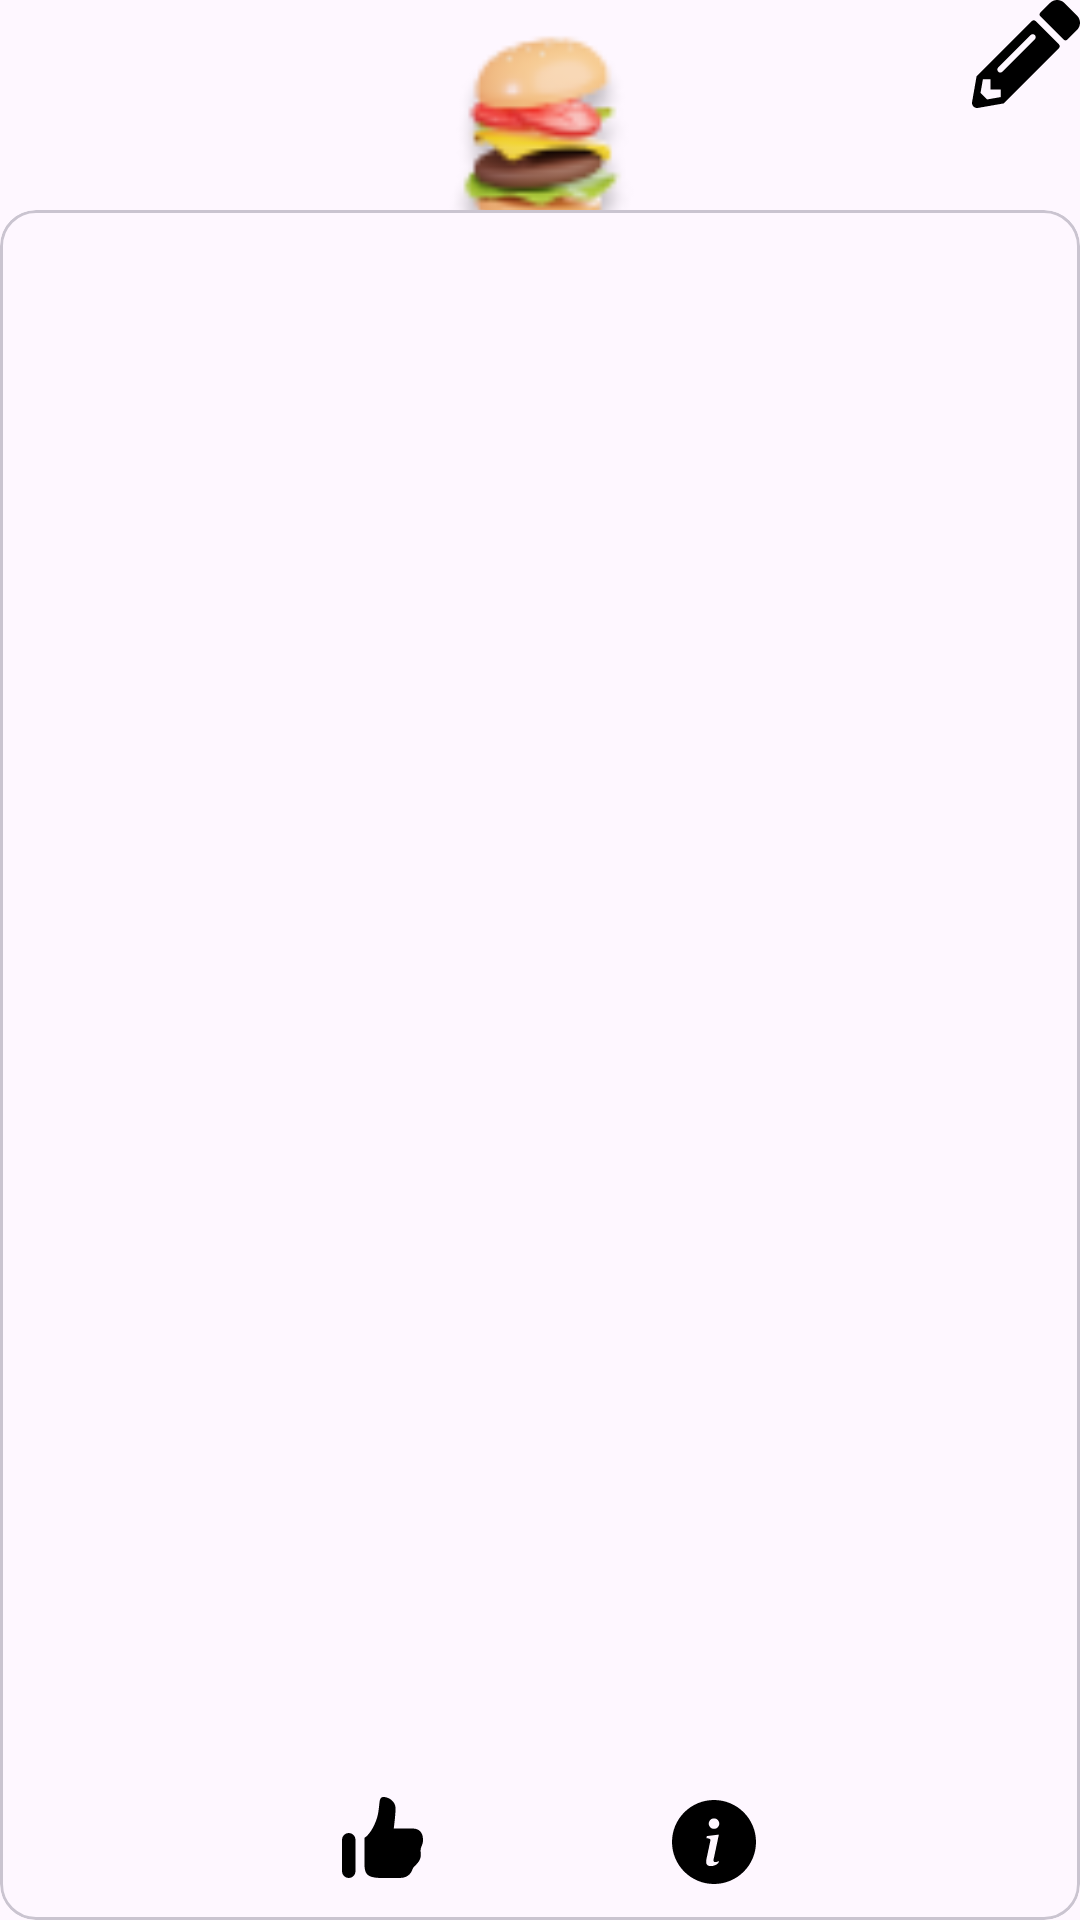

Named icons in this screenshot (1080w x 1920h) and their bounding boxes, (x1, y1, x2, y2):
edit pencil: (972, 0, 1080, 108)
info: (672, 1800, 756, 1884)
like: (342, 1797, 423, 1878)
